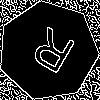R: (23, 26, 78, 84)
